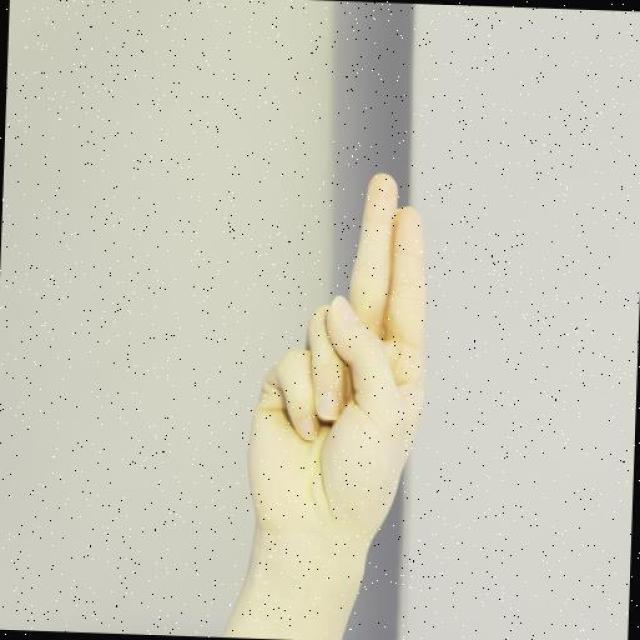U: (251, 163, 434, 554)
